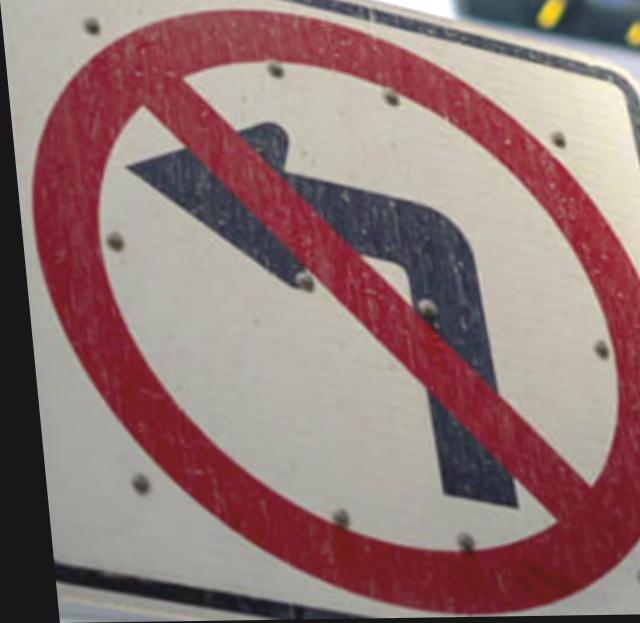not_turn_left: (19, 0, 640, 623)
